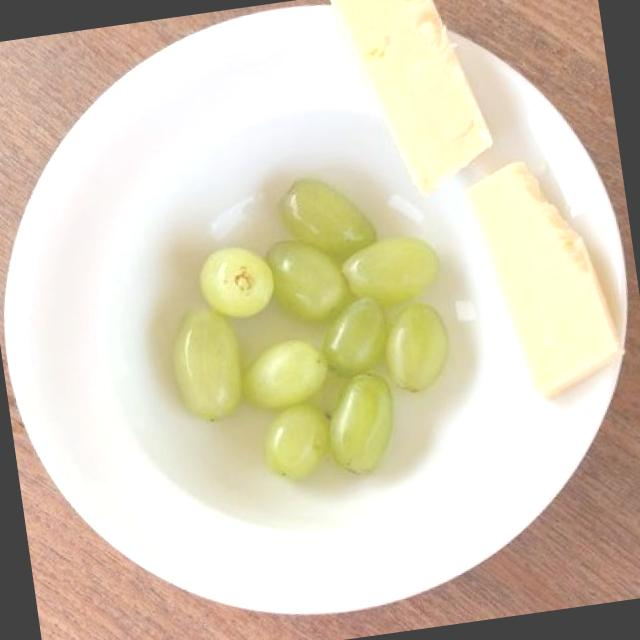Cheese: (460, 149, 626, 403), (327, 0, 501, 198)
Grapes: (144, 170, 467, 504)
